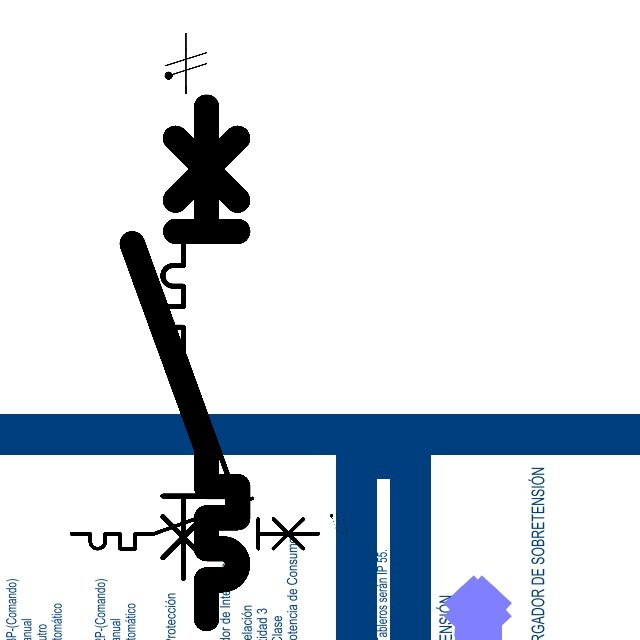interruptor_termomagnetico: (119, 93, 251, 631), (154, 231, 241, 587), (65, 492, 324, 555)
